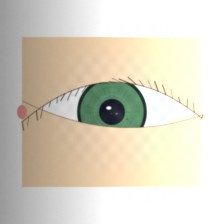pinguecula_lesion: (159, 105, 201, 138)
